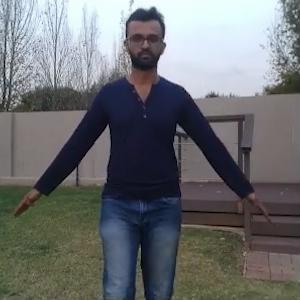land: (33, 30, 243, 299)
